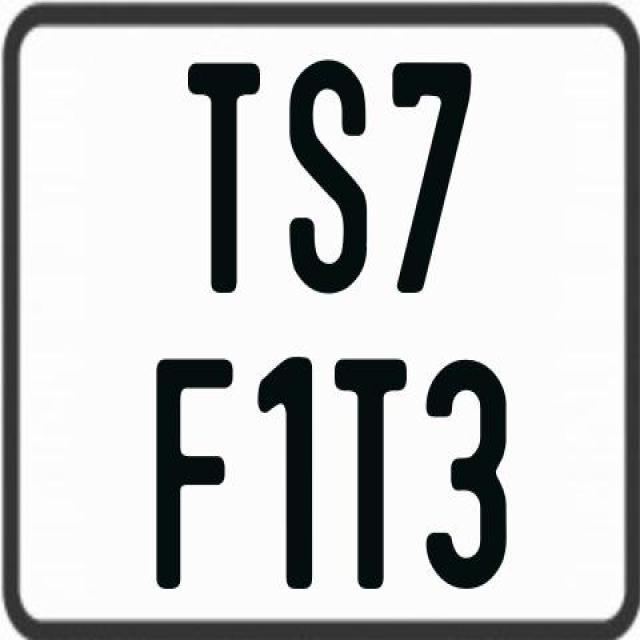1: (253, 355, 311, 592)
3: (424, 357, 508, 586)
7: (390, 58, 474, 288)
F: (152, 358, 231, 594)
S: (286, 58, 366, 299)
T: (184, 59, 262, 291), (334, 358, 412, 589)
